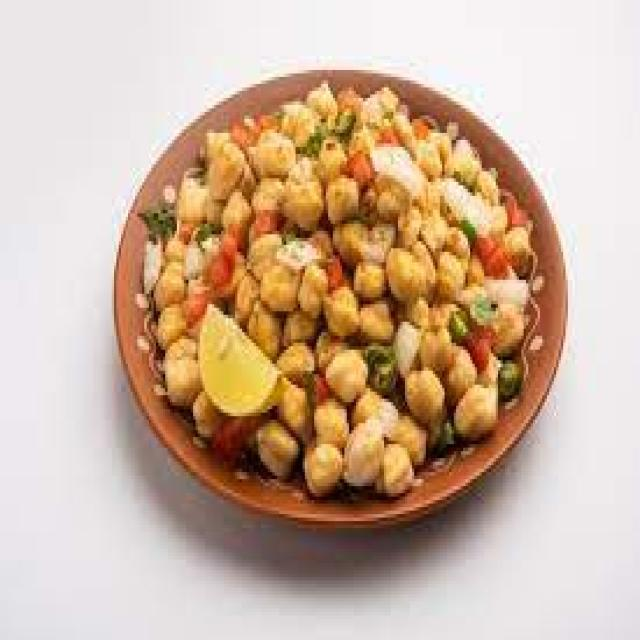Wet: (169, 88, 501, 490)
